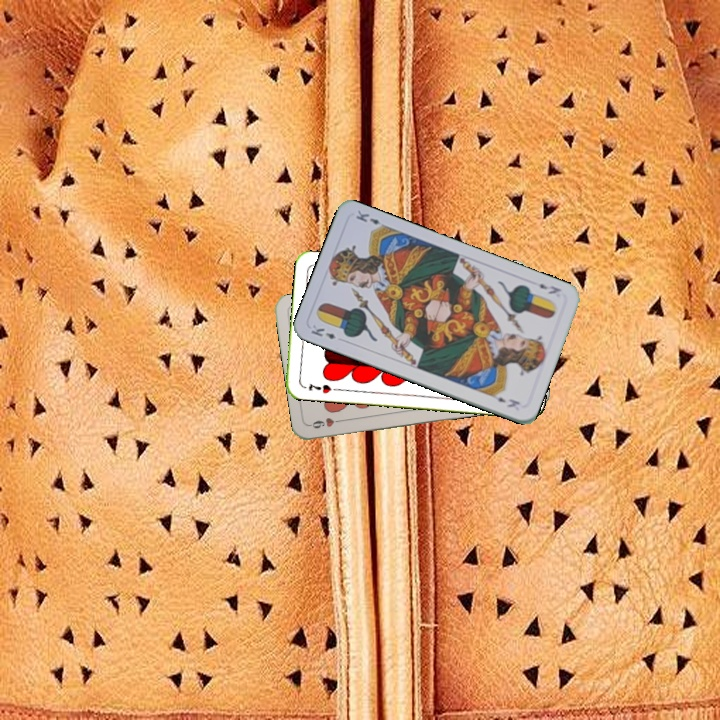EK: (307, 321, 346, 344), (528, 277, 564, 297)
H7: (304, 379, 334, 396)
H9: (306, 413, 347, 431)
